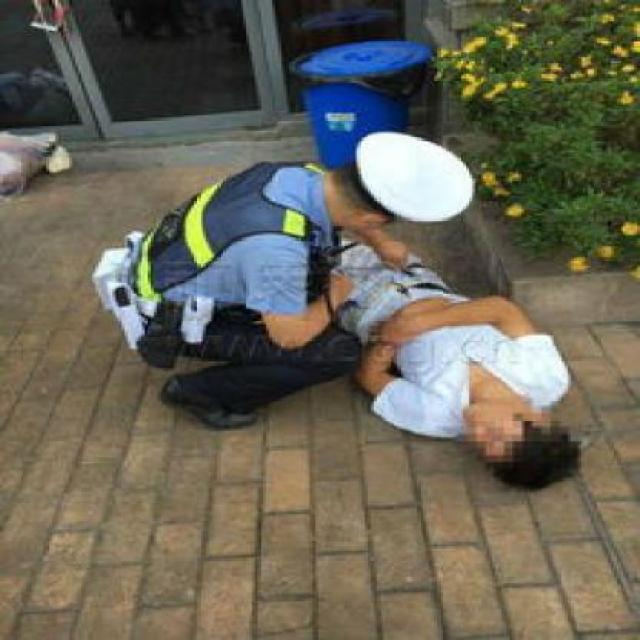fall: (310, 226, 582, 488)
